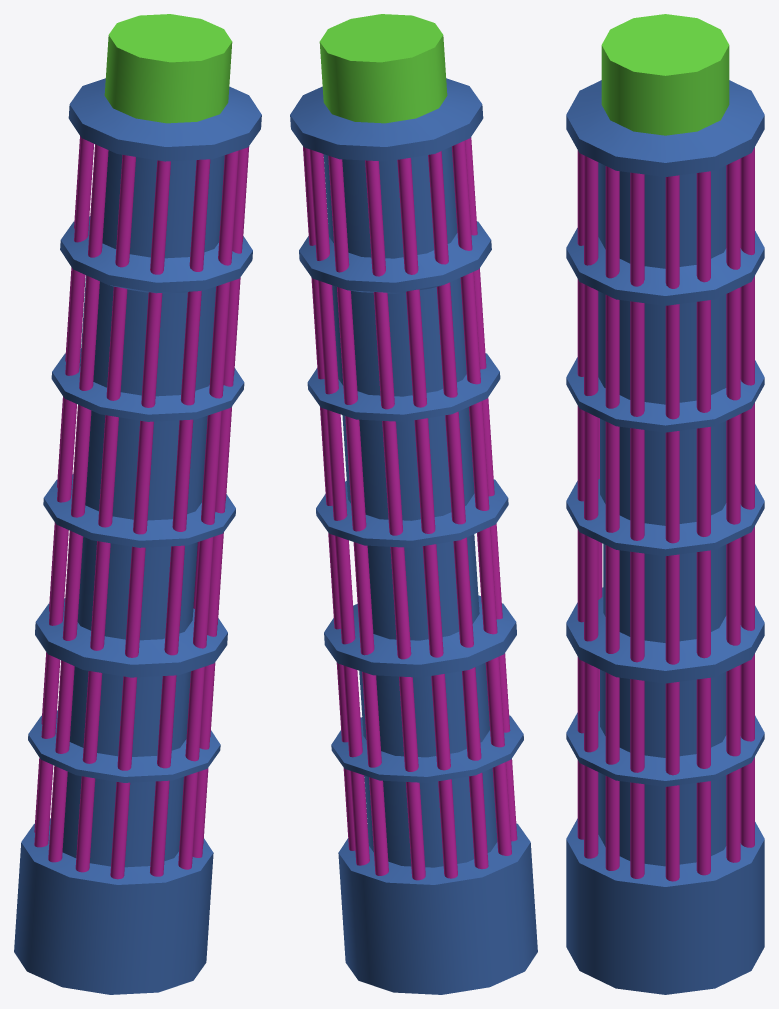
The model's file is Leaing Tower of Pisa.fbx.
The picture shows the model from 3 angles, left to right: view 1: azimuth 30°, elevation 25°; view 2: azimuth 150°, elevation 25°; view 3: azimuth 270°, elevation 25°; orthographic projection. The views are drawn at different scales.
Parts seen in each view (by area): view 1: Leaing_Tower_of_Pisa; view 2: Leaing_Tower_of_Pisa; view 3: Leaing_Tower_of_Pisa.
Boxes of the visible parts, left/top/right/bottom form: Leaing_Tower_of_Pisa: left=14, top=14, right=261, bottom=994; Leaing_Tower_of_Pisa: left=290, top=14, right=537, bottom=994; Leaing_Tower_of_Pisa: left=566, top=14, right=764, bottom=994.
Size of the model in its own units: 26.62 by 105 by 20.
